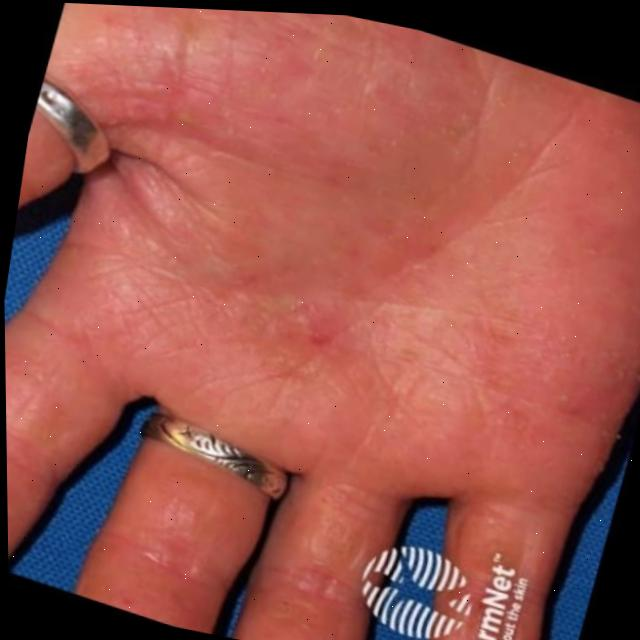Eczema: (31, 33, 633, 516)
